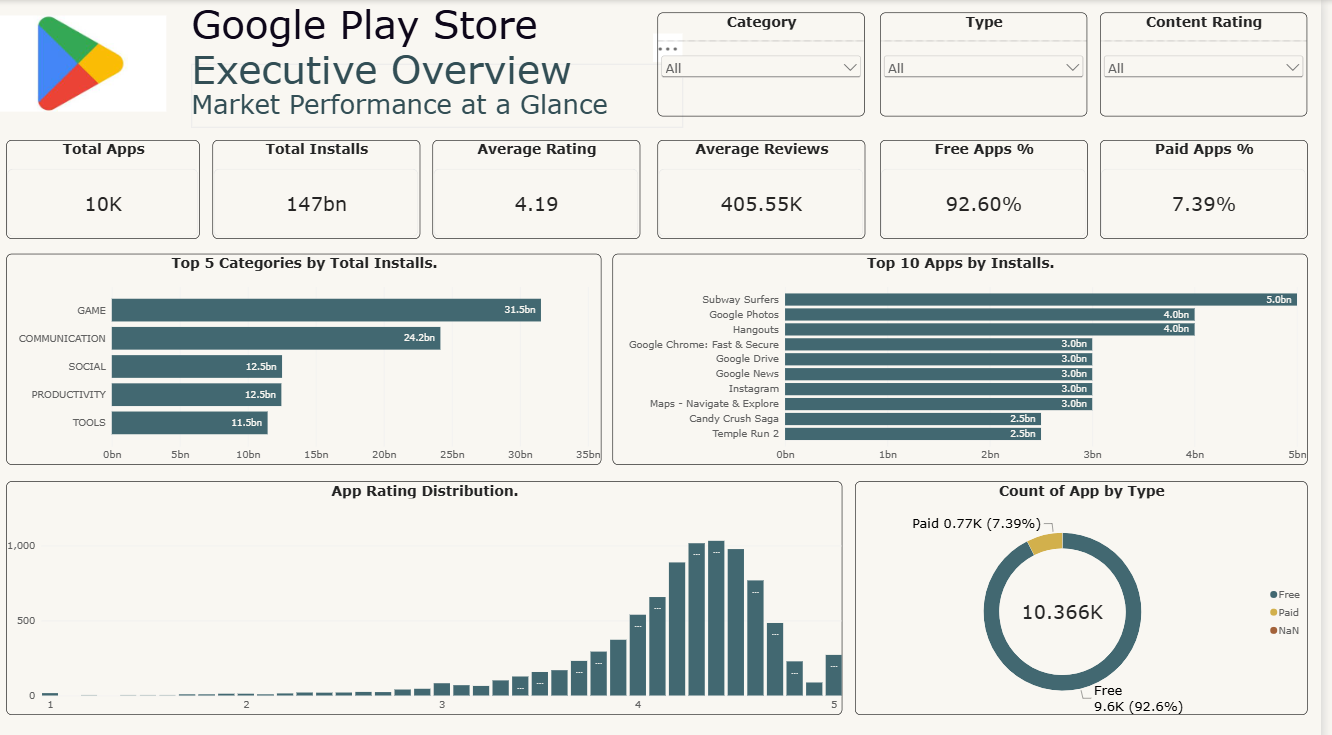

The dashboard page shown, as its layout file describes it:
{"tool":"powerbi","page":{"name":"1.Executive Overview","canvas":[1920,1080],"ordinal":0},"visuals":[{"type":"cardVisual","title":"Total Apps","fields":{"Data":["googleplaystore.Total Apps"]},"box":[16.3,202.7,280.2,142.9],"z":0},{"type":"cardVisual","title":"Average Rating","fields":{"Data":["googleplaystore.Average Rating"]},"box":[633.4,202.7,300.4,143],"z":1000},{"type":"cardVisual","title":"Total Installs","fields":{"Data":["googleplaystore.Total Installs"]},"box":[314.9,202.7,300.4,143],"z":2000},{"type":"cardVisual","title":"Paid Apps %","fields":{"Data":["googleplaystore.Paid Apps %"]},"box":[1599.7,202.7,300.4,143],"z":3000},{"type":"cardVisual","title":"Free Apps %","fields":{"Data":["googleplaystore.Free Apps %"]},"box":[1281.2,202.7,300.4,143],"z":4000},{"type":"cardVisual","title":"Average Reviews","fields":{"Data":["googleplaystore.Average Reviews"]},"box":[959.1,202.7,300.4,143],"z":5000},{"type":"columnChart","title":"App Rating Distribution.","fields":{"Category":["googleplaystore.Rating"],"Y":["CountNonNull(googleplaystore.App)"]},"box":[16.3,696.7,1210.7,338.4],"z":6000},{"type":"clusteredBarChart","title":"Top 5 Categories by Total Installs.","fields":{"Category":["googleplaystore.Category"],"Y":["Sum(googleplaystore.Installs)"]},"box":[16.3,367.4,861.4,305.8],"z":7000},{"type":"clusteredBarChart","title":"Top 10 Apps by Installs.","fields":{"Category":["googleplaystore.App"],"Y":["Sum(googleplaystore.Installs)"]},"box":[894,367.4,1006.2,305.8],"z":8000},{"type":"donutChart","fields":{"Category":["googleplaystore.Type"],"Y":["CountNonNull(googleplaystore.App)"]},"box":[1245,696.7,655.1,338.4],"z":9000},{"type":"textbox","box":[284.1,92.3,713,92.3],"z":10000},{"type":"image","box":[0,0,247.9,184.6],"z":11000},{"type":"textbox","box":[284.1,0,528.4,79.6],"z":12000},{"type":"textbox","box":[284.1,65.1,568.2,79.6],"z":13000},{"type":"slicer","title":"Category","fields":{"Values":["googleplaystore.Category"]},"box":[959.1,18.1,300,150],"z":14000},{"type":"slicer","title":"Type","fields":{"Values":["googleplaystore.Type"]},"box":[1281,18,300,150],"z":15000},{"type":"slicer","title":"Content Rating","fields":{"Values":["googleplaystore.Content Rating"]},"box":[1600,18,300,150],"z":16000}]}

Visuals, with their boxes in screenshot pixels (x1, y1, x2, y2), scaled from the page's 1920x1080 canvas onto the 1332x735 screenshot:
"Total Apps" cardVisual: {"x1": 11, "y1": 138, "x2": 206, "y2": 235}
"Average Rating" cardVisual: {"x1": 439, "y1": 138, "x2": 648, "y2": 235}
"Total Installs" cardVisual: {"x1": 218, "y1": 138, "x2": 427, "y2": 235}
"Paid Apps %" cardVisual: {"x1": 1110, "y1": 138, "x2": 1318, "y2": 235}
"Free Apps %" cardVisual: {"x1": 889, "y1": 138, "x2": 1097, "y2": 235}
"Average Reviews" cardVisual: {"x1": 665, "y1": 138, "x2": 874, "y2": 235}
"App Rating Distribution." columnChart: {"x1": 11, "y1": 474, "x2": 851, "y2": 704}
"Top 5 Categories by Total Installs." clusteredBarChart: {"x1": 11, "y1": 250, "x2": 609, "y2": 458}
"Top 10 Apps by Installs." clusteredBarChart: {"x1": 620, "y1": 250, "x2": 1318, "y2": 458}
donutChart - googleplaystore.Type x CountNonNull(googleplaystore.App): {"x1": 864, "y1": 474, "x2": 1318, "y2": 704}
textbox: {"x1": 197, "y1": 63, "x2": 692, "y2": 126}
image: {"x1": 0, "y1": 0, "x2": 172, "y2": 126}
textbox: {"x1": 197, "y1": 0, "x2": 564, "y2": 54}
textbox: {"x1": 197, "y1": 44, "x2": 591, "y2": 98}
"Category" slicer: {"x1": 665, "y1": 12, "x2": 874, "y2": 114}
"Type" slicer: {"x1": 889, "y1": 12, "x2": 1097, "y2": 114}
"Content Rating" slicer: {"x1": 1110, "y1": 12, "x2": 1318, "y2": 114}
